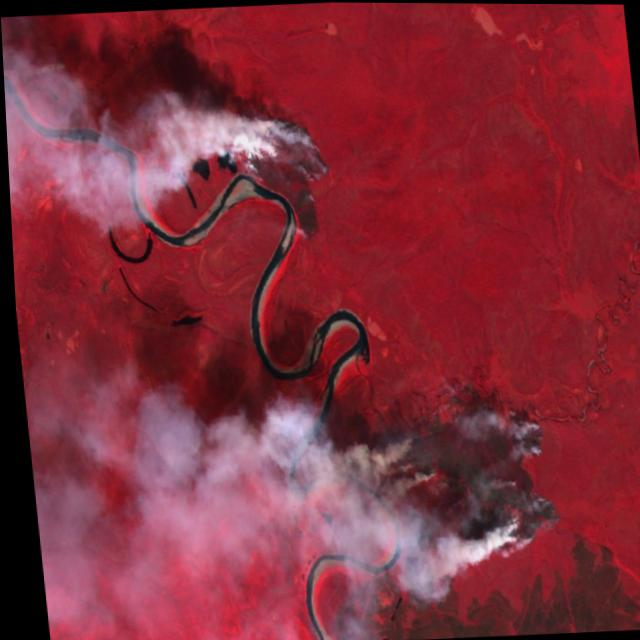fire: (352, 371, 565, 580), (228, 97, 339, 250)
